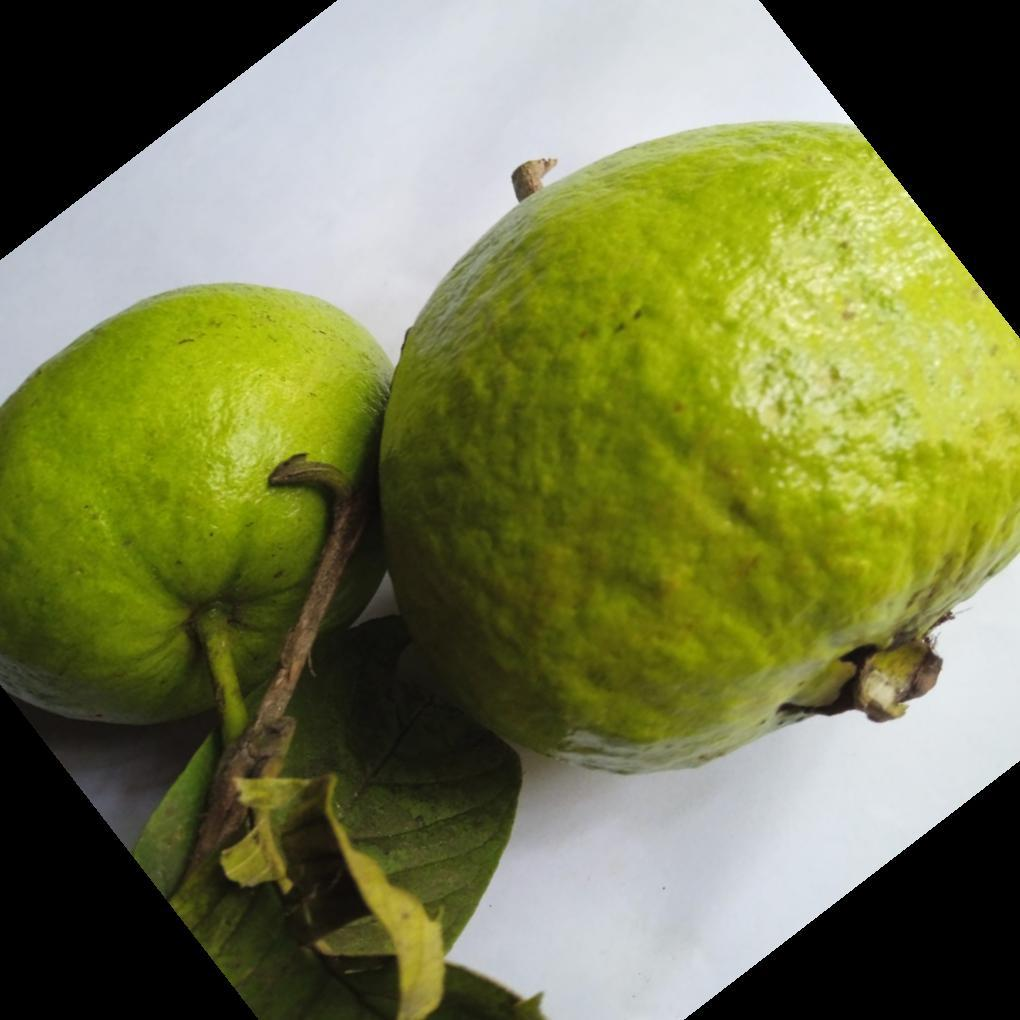FreshGuava: (0, 123, 1020, 780)
